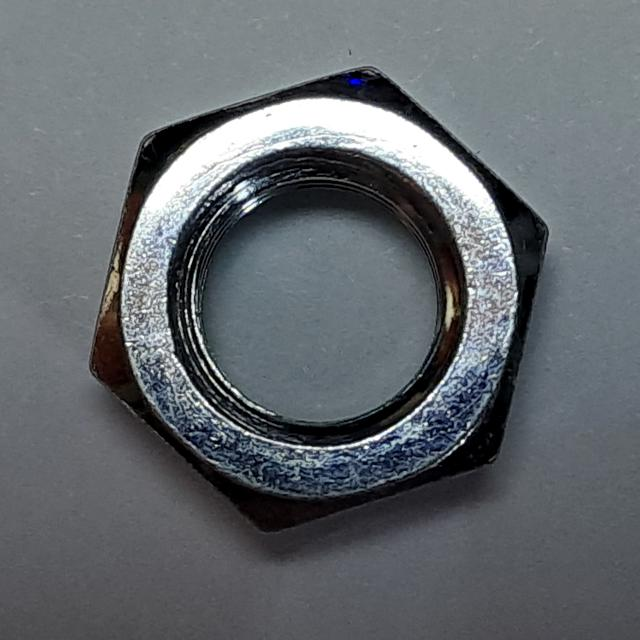Excellent: (74, 44, 567, 547)
